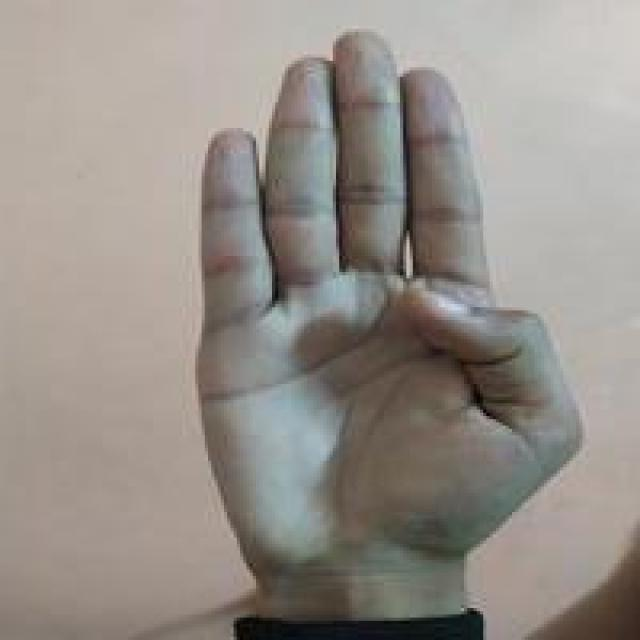B: (192, 24, 592, 578)
